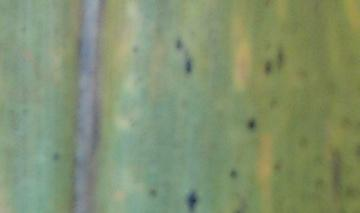tarspot: (187, 190, 197, 213), (277, 46, 285, 68), (246, 118, 257, 131), (272, 160, 283, 173), (263, 60, 273, 74), (185, 57, 193, 74), (128, 43, 140, 54), (174, 39, 184, 51), (146, 188, 159, 197), (51, 151, 61, 161), (228, 168, 238, 178)
